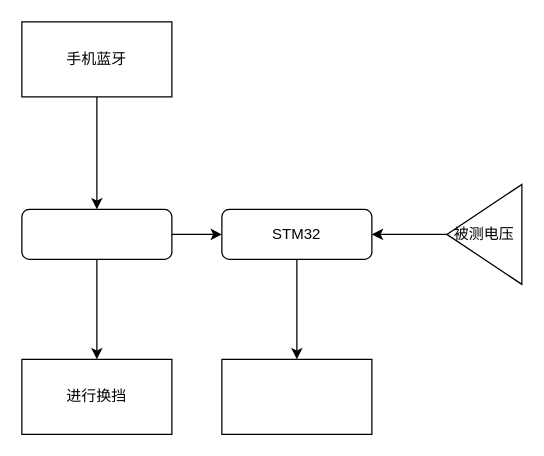
Image size: 544x456. Some labels were removed from this diagram. The shapes that lost their labels are listed below. From the top down, each one's centre as x and y in pixels, then its label:
At pixel 96 233: "MSP430".
At pixel 296 396: "显示波形".
